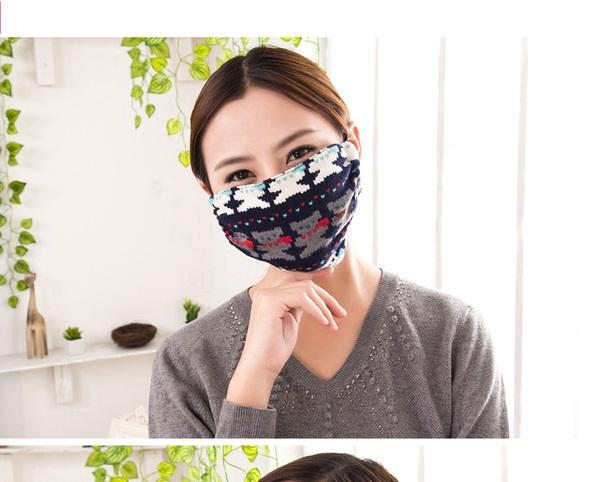OK: (212, 123, 355, 266)
